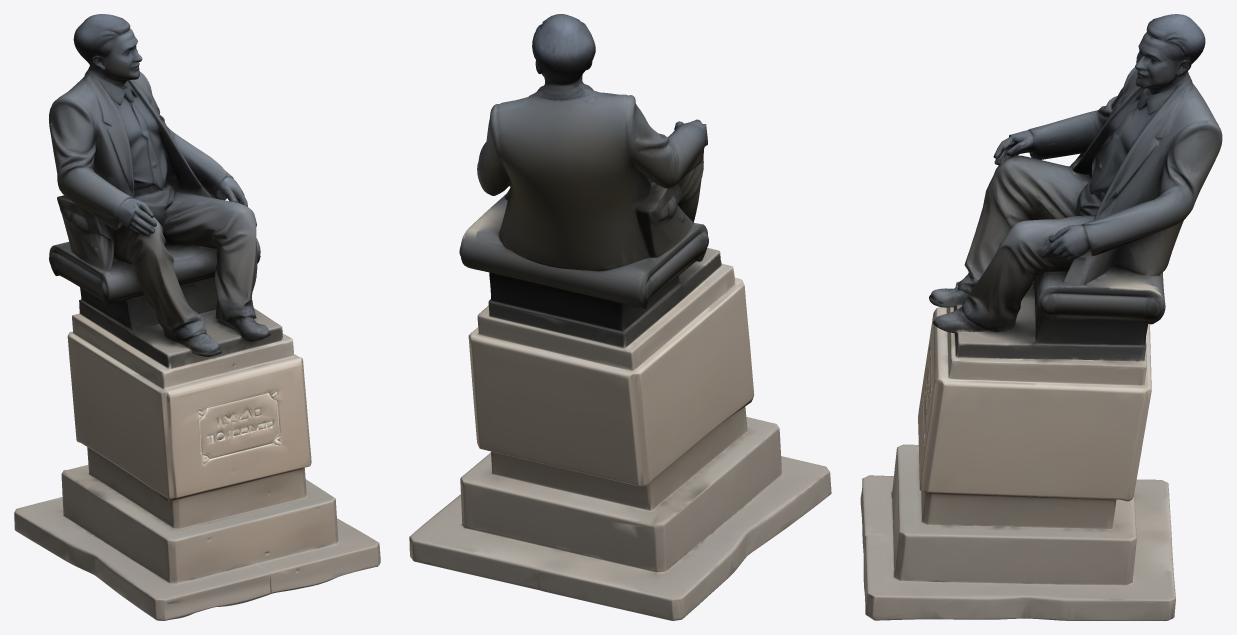
The model's file is statue-5.glb.
3 views of the same model, side by side, from view 1: azimuth 30°, elevation 25°; view 2: azimuth 150°, elevation 25°; view 3: azimuth 270°, elevation 25° (orthographic). The views are drawn at different scales.
Parts seen in each view (by area): view 1: node_0; view 2: node_0; view 3: node_0.
Boxes of the visible parts, <box> form: node_0: <box>14,14,380,620</box>; node_0: <box>409,14,831,620</box>; node_0: <box>860,14,1222,620</box>.
Bounding box in the file's own units: 0.489 × 0.9704 × 0.5949.
Materials: 1 (1 with a texture image).
